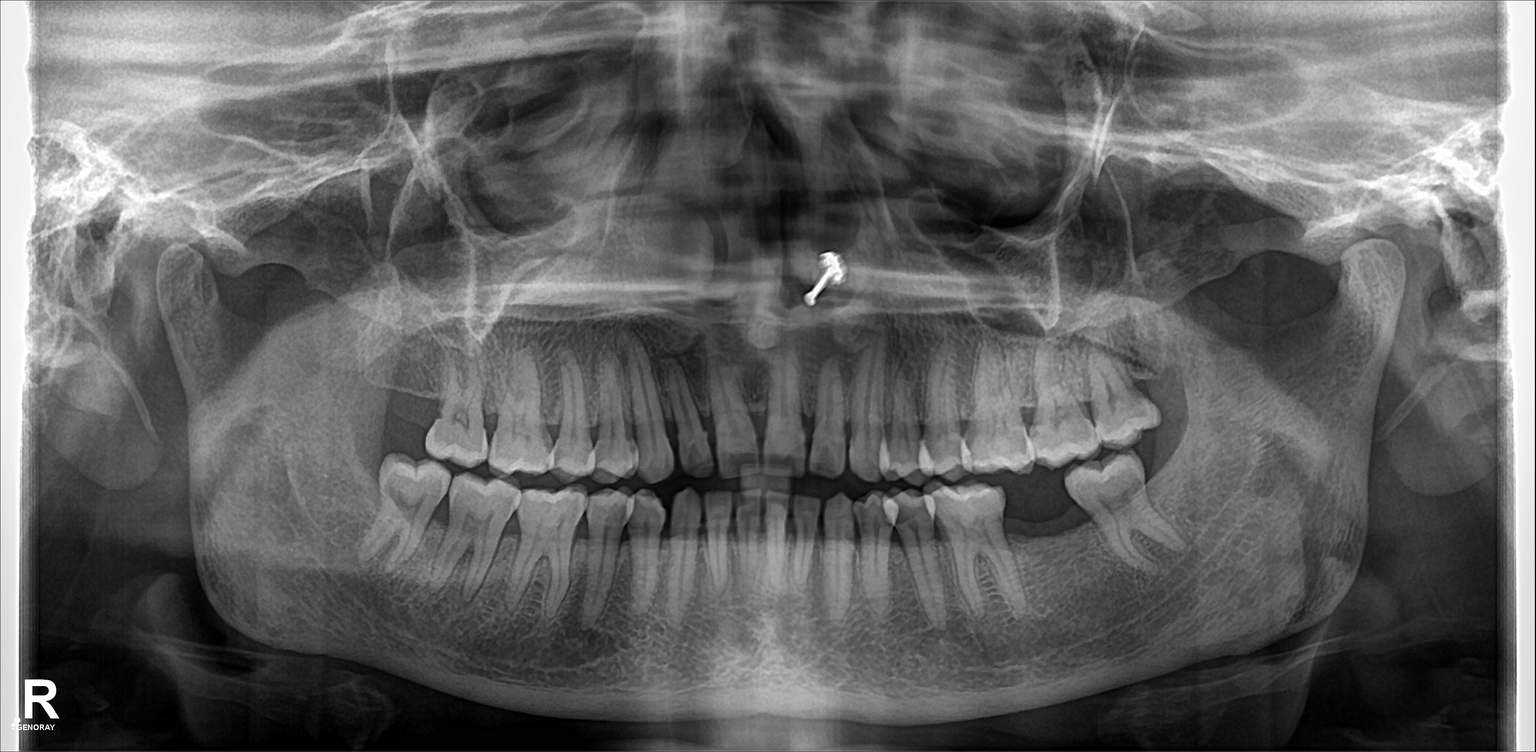Missing Tooth: (1013, 480, 1083, 587), (395, 331, 439, 447)
